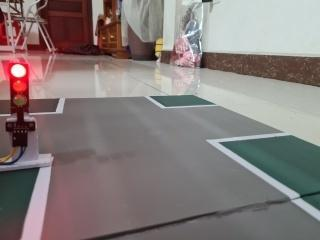red: (4, 59, 36, 127)
